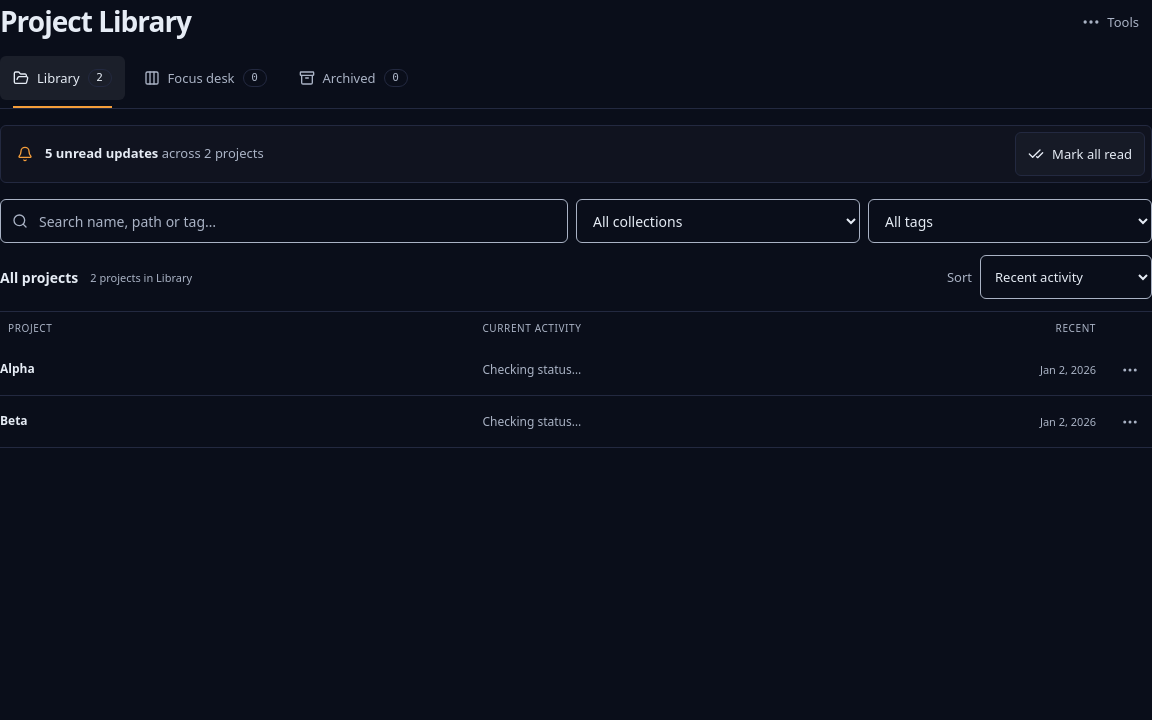
Clearing update notifications for every project from the Library › confirms before clearing, can be cancelled, and sends no project scope
Click the button "Mark all read" at (1080, 154), box left=1015, top=132, right=1145, bottom=176
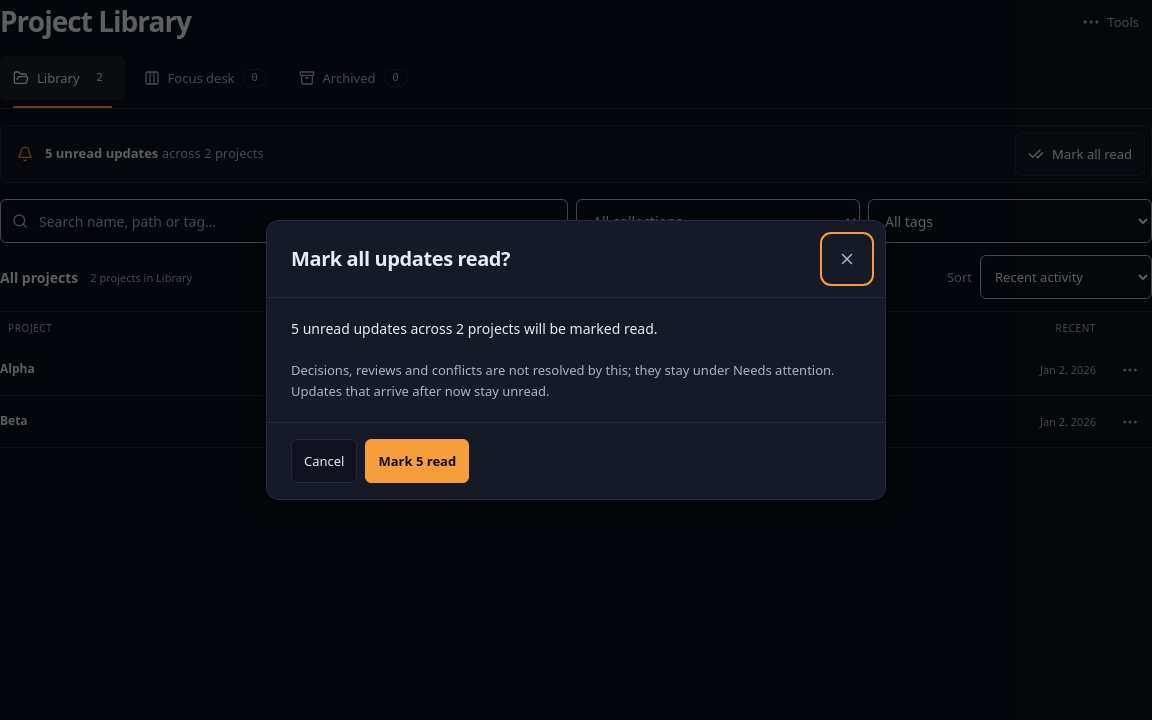
Result: the dialog "Mark all updates read?" shows "5 unread updates across 2 projects will be marked read." at left=266, top=220, right=886, bottom=500
Result: the dialog "Mark all updates read?" shows "Decisions, reviews and conflicts are not resolved" at left=291, top=361, right=835, bottom=400
Click the button "Cancel" at (324, 461), box left=291, top=439, right=358, bottom=483
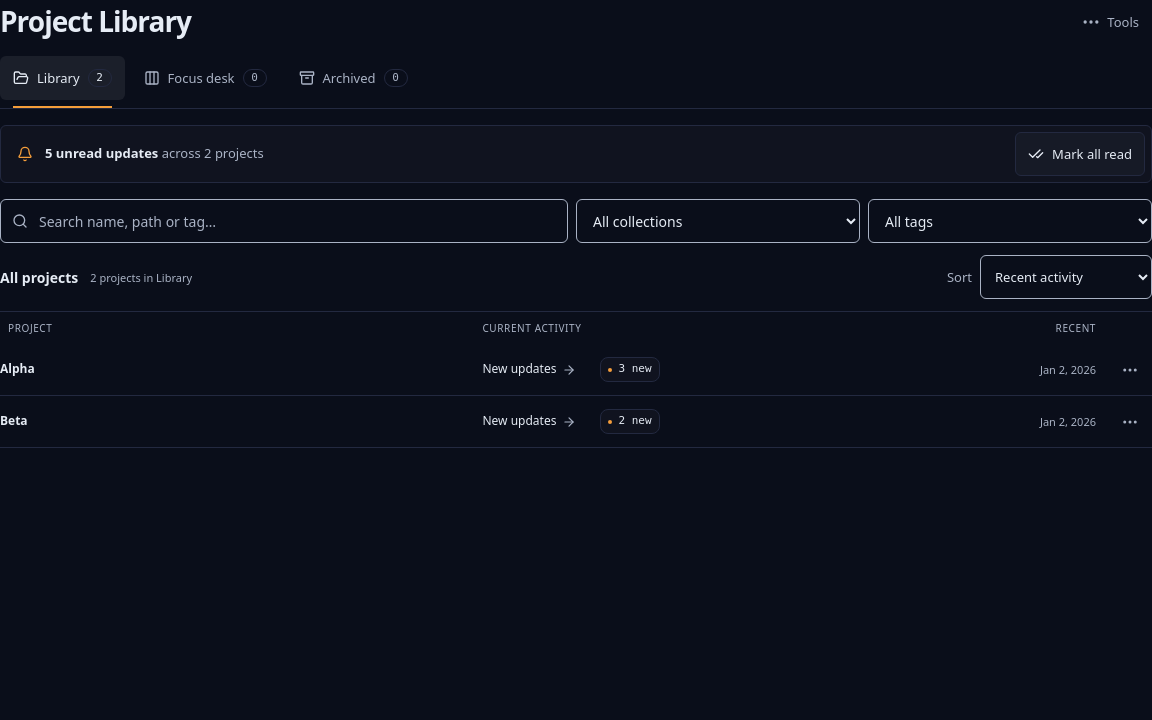
Result: the dialog is gone
Click the button "Mark all read" at (1080, 154), box left=1015, top=132, right=1145, bottom=176
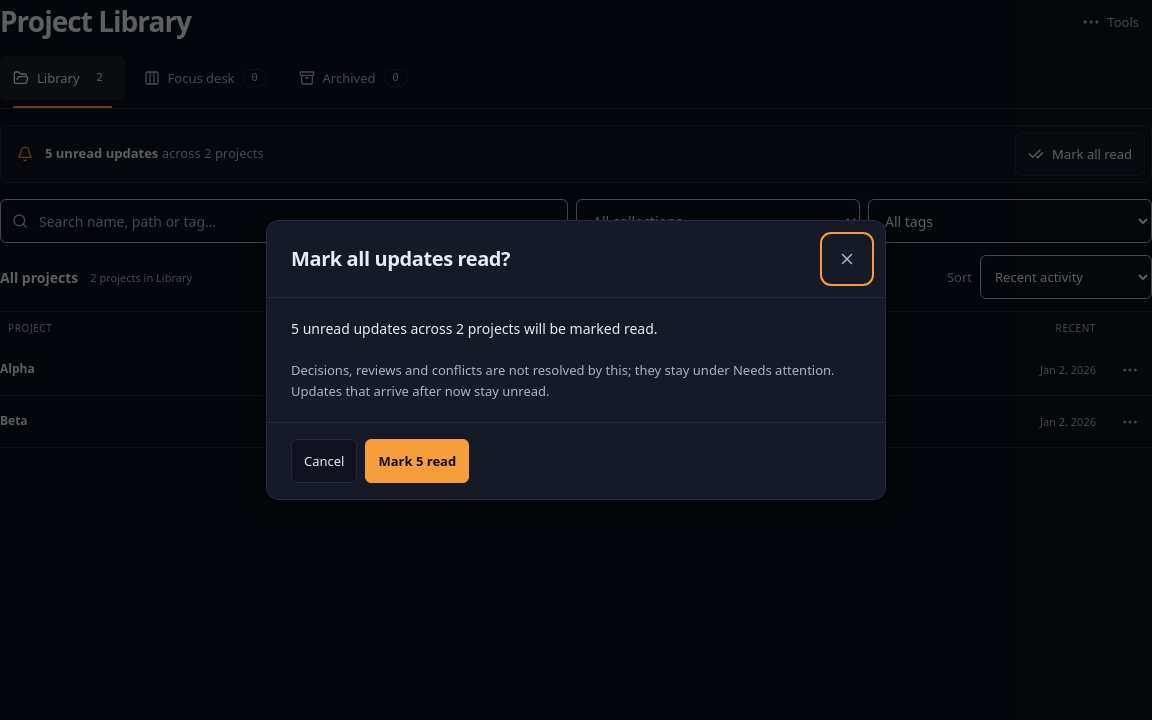
Click the button "Mark 5 read" at (417, 461), box left=366, top=439, right=469, bottom=483
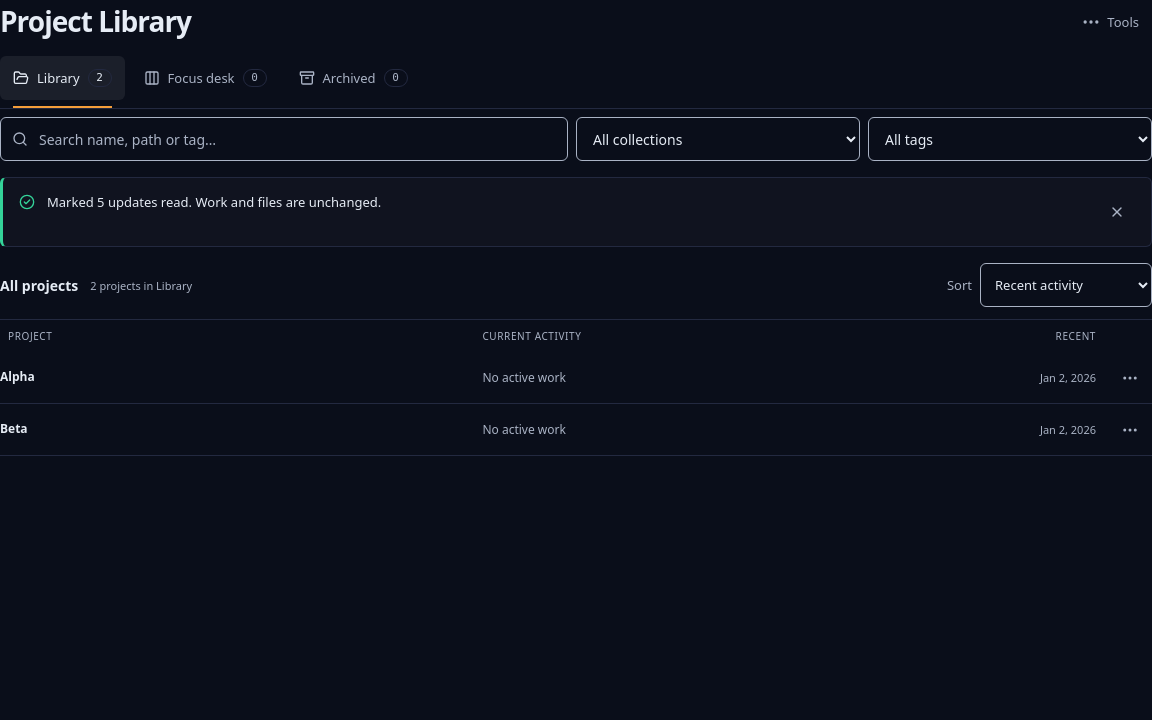
Result: the dialog is gone
Result: the text "Marked 5 updates read. Work and files are unchanged." is shown at left=47, top=193, right=381, bottom=211
Result: the text "unread updates" is gone
